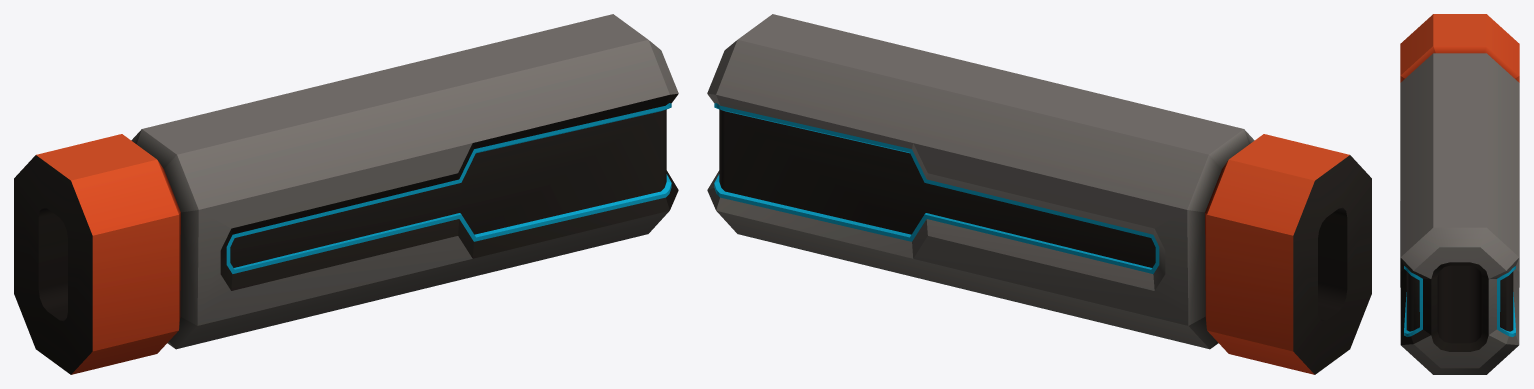
File: Muzzle_Caliber1_01.fbx
3 renders of one model, left to right at view 1: azimuth 30°, elevation 25°; view 2: azimuth 150°, elevation 25°; view 3: azimuth 270°, elevation 25°, orthographic. The views are drawn at different scales.
Visible parts, largest first — view 1: Muzzle_Caliber1_01; view 2: Muzzle_Caliber1_01; view 3: Muzzle_Caliber1_01.
Part boxes in pixels (box(x1,y1,x2,y2)): Muzzle_Caliber1_01: box(14, 14, 678, 374); Muzzle_Caliber1_01: box(707, 14, 1371, 374); Muzzle_Caliber1_01: box(1400, 14, 1519, 374).
Size of the model in its own units: 20.34 by 6.35 by 4.65.
